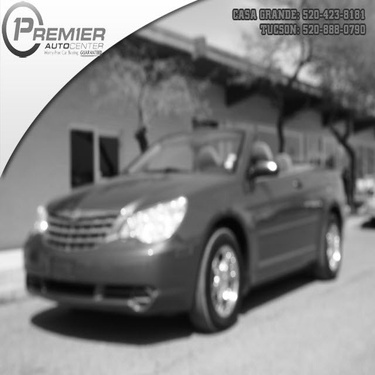car: (19, 119, 360, 347)
